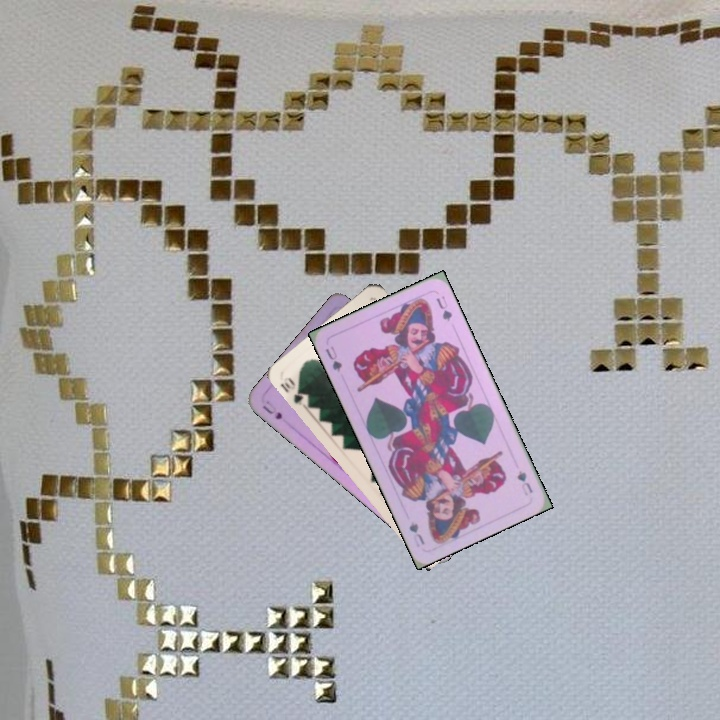G10: (277, 373, 312, 409)
GU: (321, 342, 345, 375), (513, 466, 535, 498)
SU: (258, 397, 285, 422)
